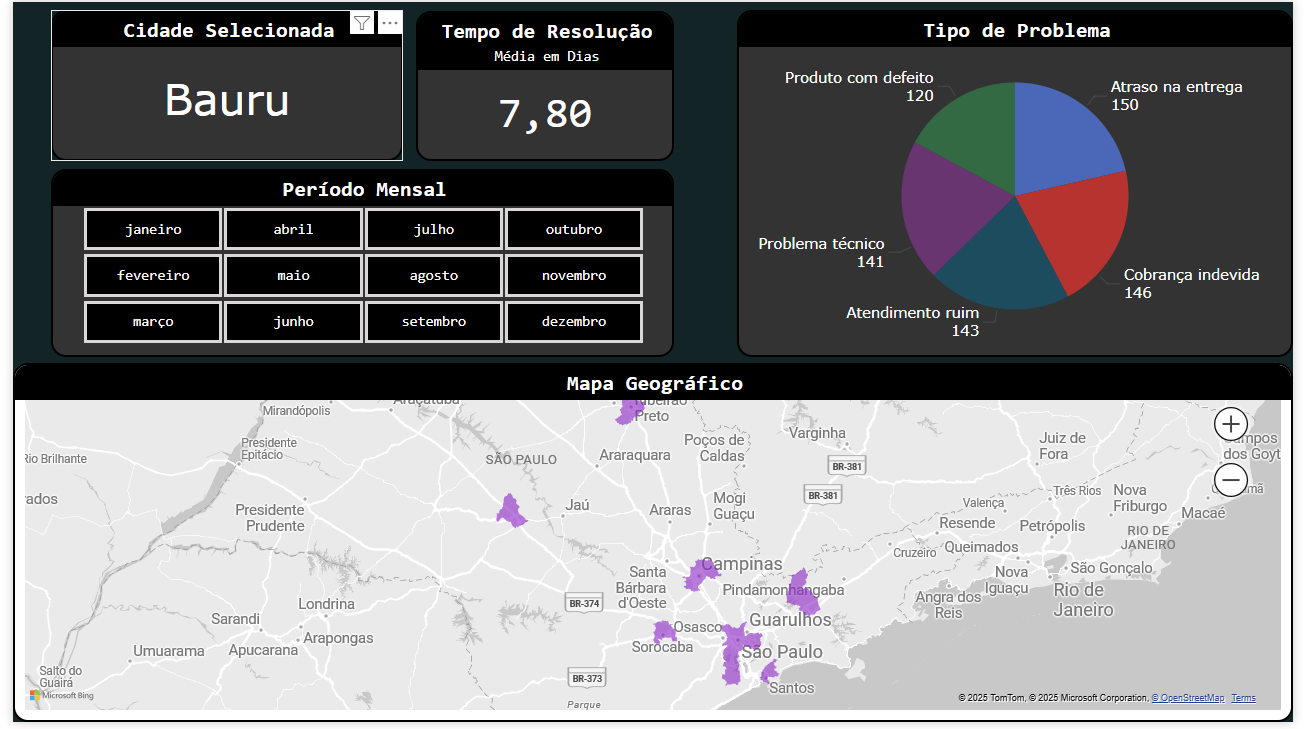

This screenshot's page, from the dashboard's own definition file:
{"tool":"powerbi","page":{"name":"Página Principal","canvas":[1280,720],"ordinal":0},"visuals":[{"type":"card","title":"Cidade Selecionada","fields":{"Values":["Min(Sheet1.Cidade)"]},"box":[38.3,8.4,352,150.7],"z":0},{"type":"filledMap","title":"Mapa Geográfico","fields":{"Category":["Sheet1.Cidade"]},"box":[0,360.6,1280,359.2],"z":1000},{"type":"card","title":"Tempo de Resolução","fields":{"Values":["Avg(Sheet1.Tempo de Resolução (dias))"]},"box":[403.2,8.6,257.4,150],"z":2000},{"type":"slicer","title":"Período Mensal","fields":{"Values":["Sheet1.Data.Variation.Hierarquia de datas.Mês"]},"box":[38.5,166.9,622.1,188.6],"z":3000},{"type":"pieChart","title":"Tipo de Problema","fields":{"Category":["Sheet1.Tipo de Problema"],"Y":["CountNonNull(Sheet1.Tipo de Problema)"]},"box":[715.7,8,556.6,347.1],"z":4000}]}

Visuals, with their boxes in screenshot pixels (x1, y1, x2, y2), scaled from the page's 1280x720 canvas onto the 1306x729 screenshot:
"Cidade Selecionada" card: (left=39, top=9, right=398, bottom=161)
"Mapa Geográfico" filledMap: (left=0, top=365, right=1305, bottom=728)
"Tempo de Resolução" card: (left=411, top=9, right=674, bottom=161)
"Período Mensal" slicer: (left=39, top=169, right=674, bottom=360)
"Tipo de Problema" pieChart: (left=730, top=8, right=1298, bottom=360)
